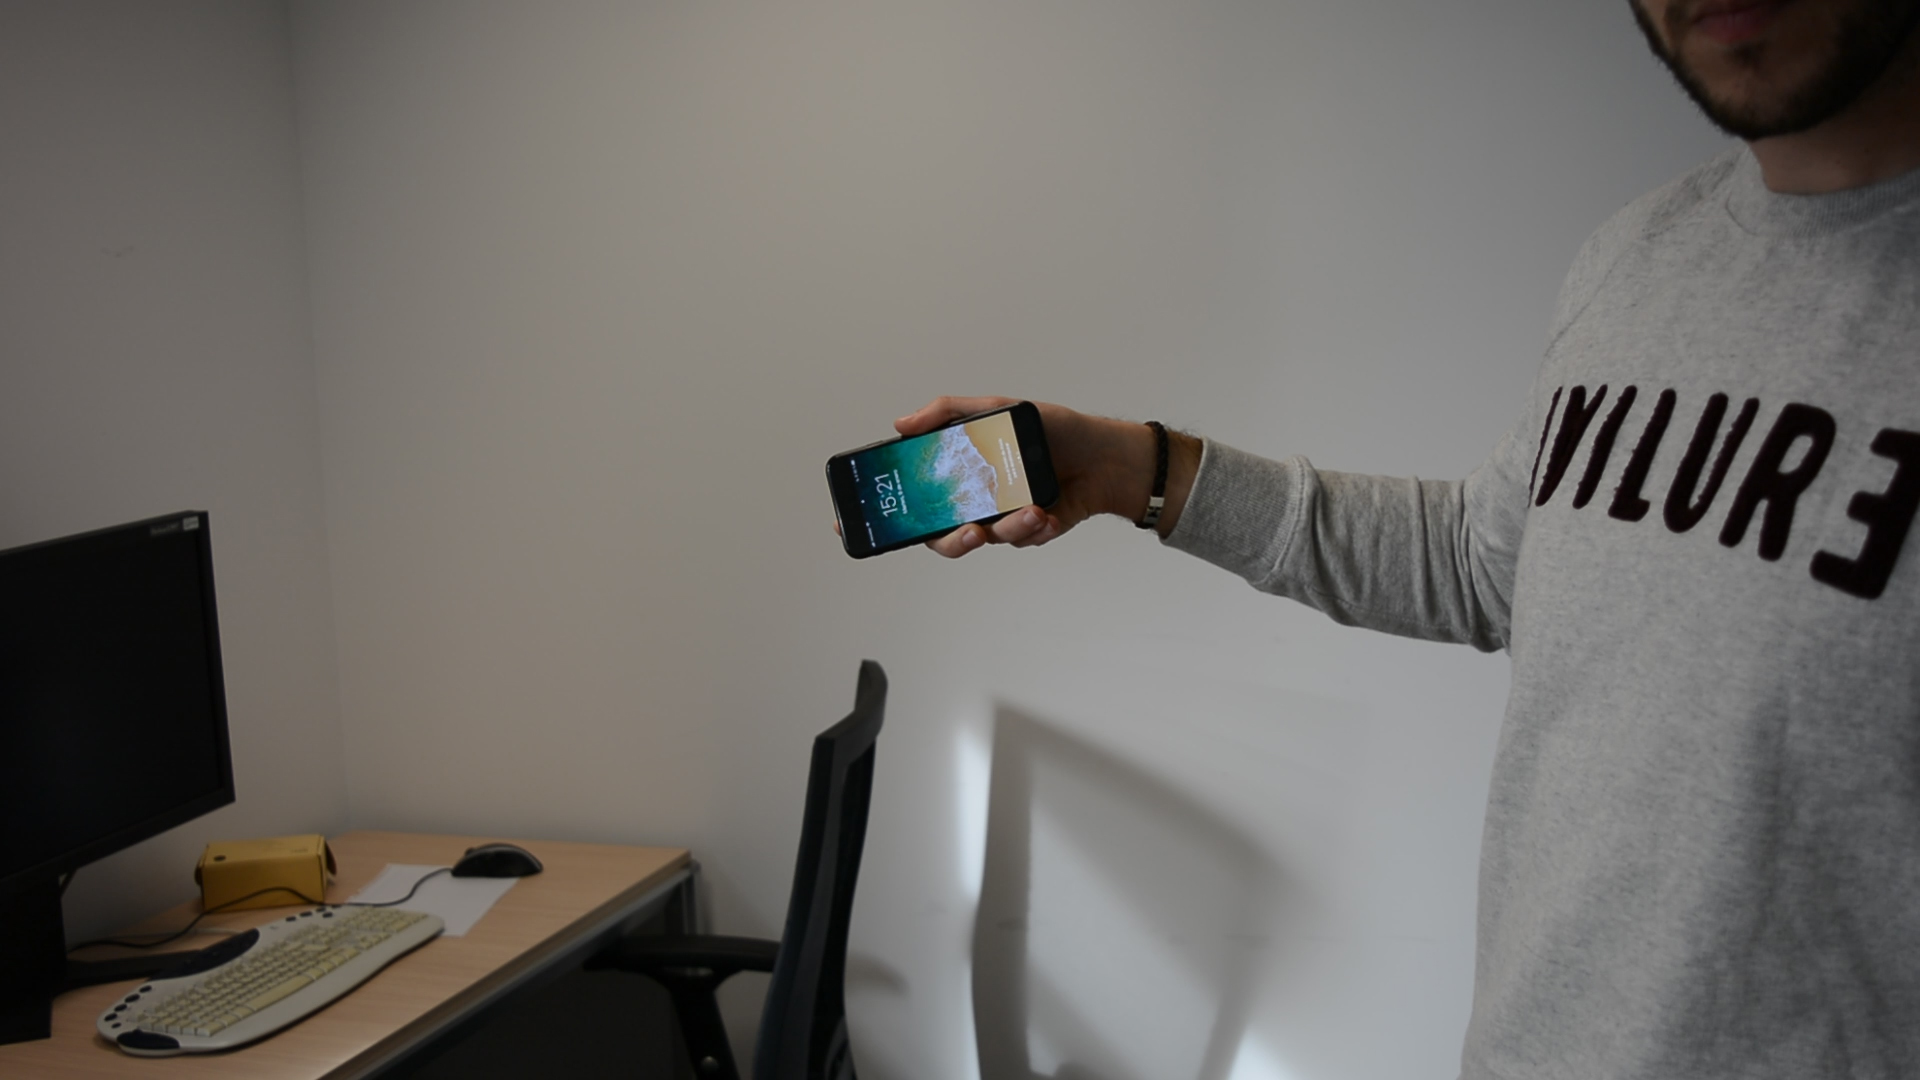smartphone: (824, 400, 1062, 560)
